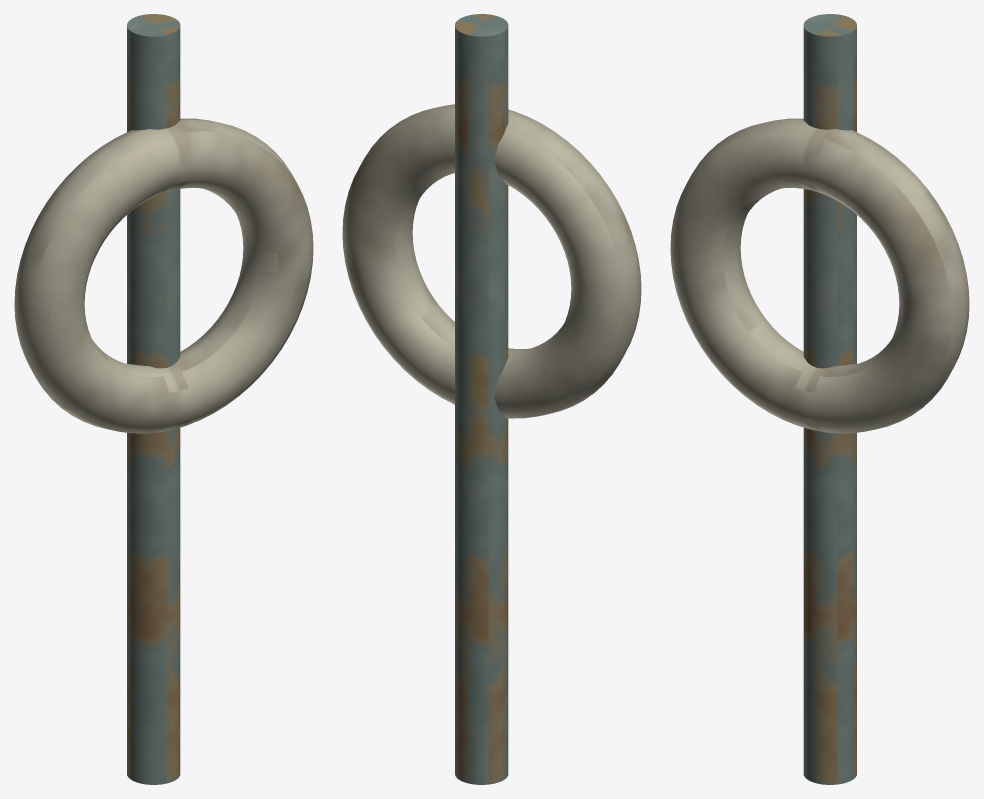
Rendered from Safety_Lifering.glb.
The picture shows the model from 3 angles, left to right: view 1: azimuth 30°, elevation 25°; view 2: azimuth 150°, elevation 25°; view 3: azimuth 330°, elevation 25°; orthographic projection.
Parts seen in each view (by area): view 1: Safety_Lifering; view 2: Safety_Lifering; view 3: Safety_Lifering.
Boxes of the visible parts, left/top/right/bottom form: Safety_Lifering: left=14, top=14, right=313, bottom=784; Safety_Lifering: left=342, top=14, right=641, bottom=784; Safety_Lifering: left=670, top=14, right=969, bottom=784.
Bounding box in the file's own units: 0.81 × 2 × 0.2.
2 materials, 2 textured.
